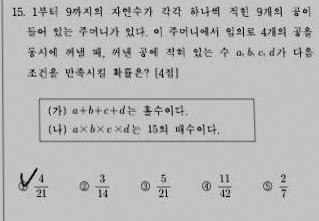choice: (15, 172, 30, 192)
not-choice: (78, 179, 91, 192), (200, 180, 213, 193), (261, 179, 274, 192), (139, 179, 151, 192)
